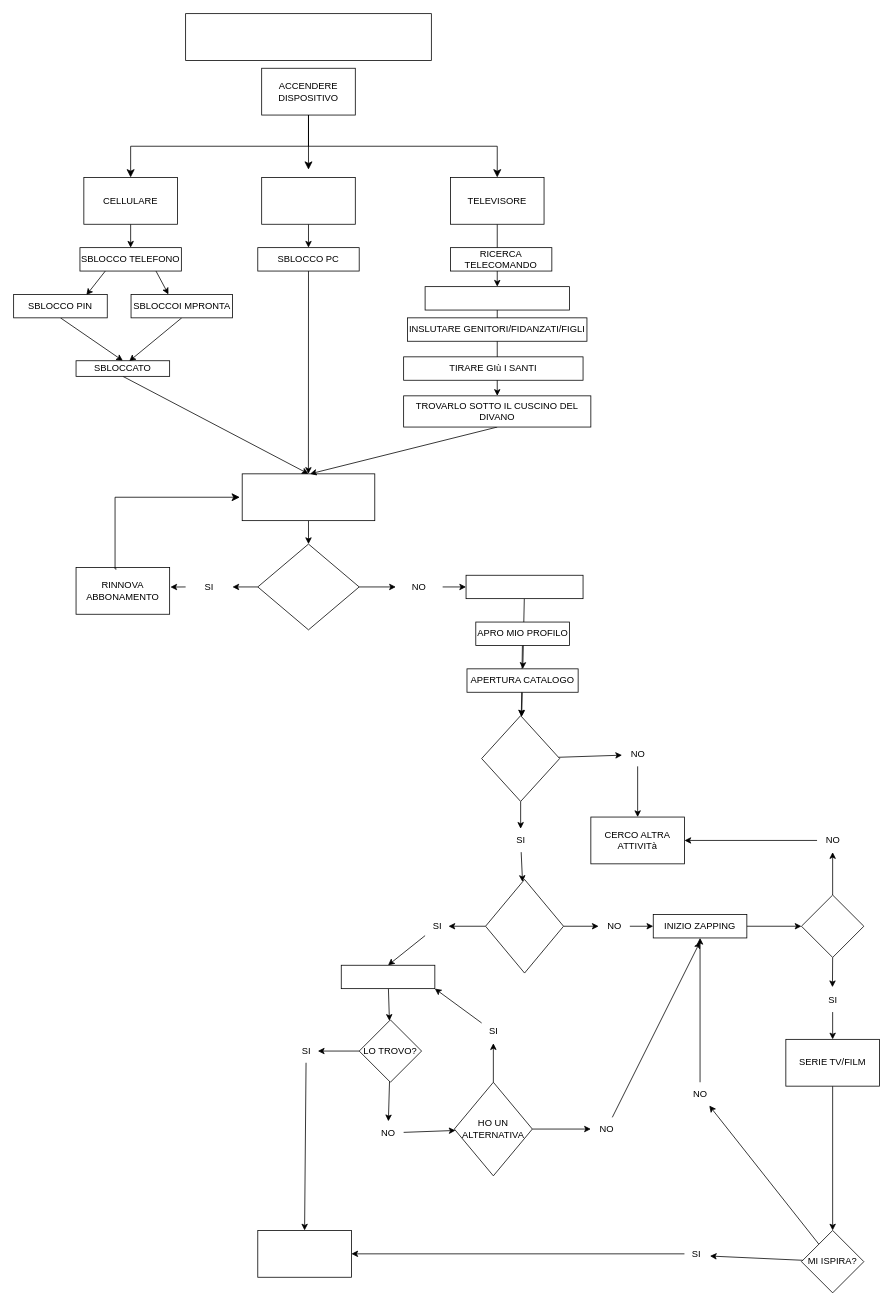
Image size: 893x1307. Some labels were removed from this diagram. Each missing label, with the centre of its shape:
ABBONAMENTO SCADUTO: the point at 308,586
APERTURA NETFLIX: the point at 308,497
COMPUTER: the point at 308,200
HO ABBASTANZA TEMPO ???: the point at 520,758
LO CERCO: the point at 387,976
LO GUARDO: the point at 304,1253
METTERE SOTTOSOPRA CASA: the point at 496,298
MI RESTA TEMPO: the point at 832,925
SCEGLIERE COSA GUARDARE SU NETFLIX: the point at 308,36
SCHERMATA PROFILO: the point at 524,586
SO COSA GUARDARE: the point at 524,926
